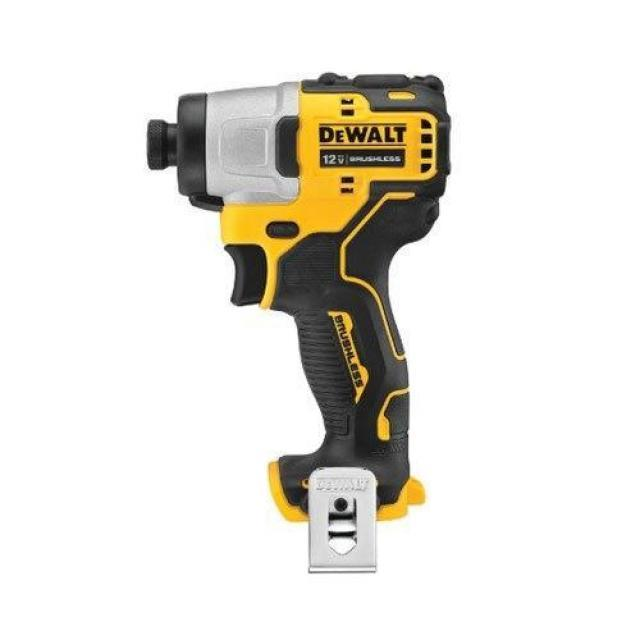drill: (145, 72, 454, 576)
